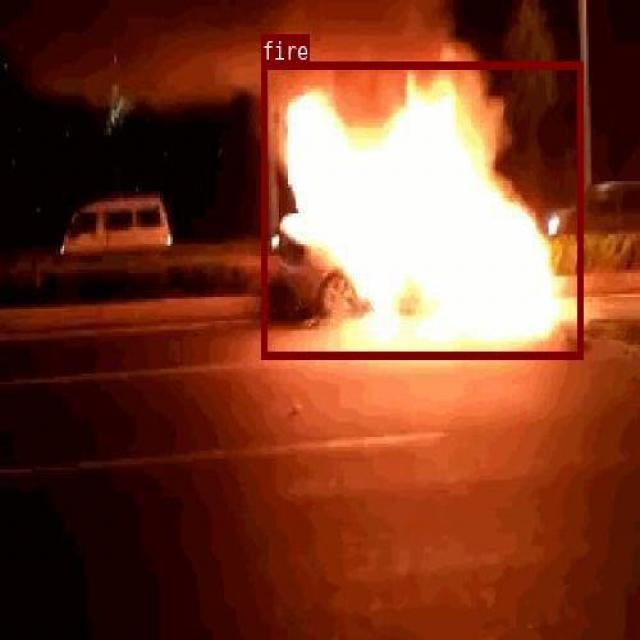fire: (260, 61, 582, 357)
